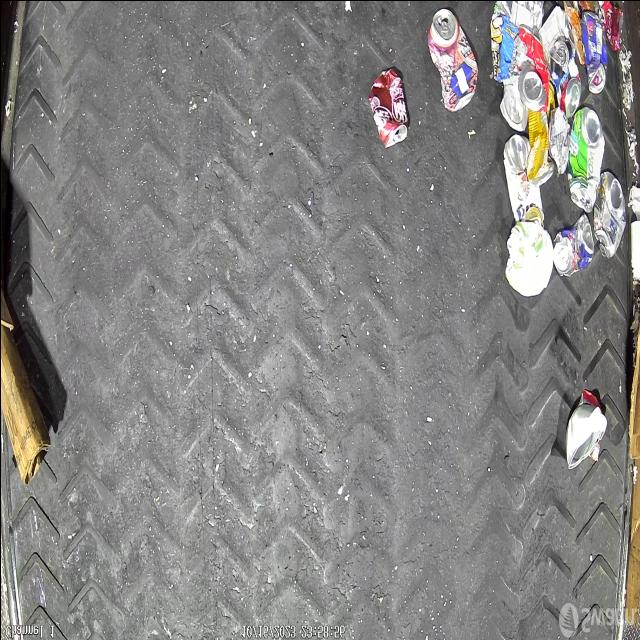can: (426, 7, 477, 112), (566, 105, 604, 212), (502, 133, 543, 227), (508, 25, 548, 111), (368, 66, 408, 148), (592, 170, 626, 258), (526, 80, 554, 186), (552, 212, 592, 276), (581, 9, 607, 92), (553, 56, 581, 118), (592, 0, 622, 51), (494, 0, 544, 30), (499, 78, 527, 130), (548, 38, 572, 76)
